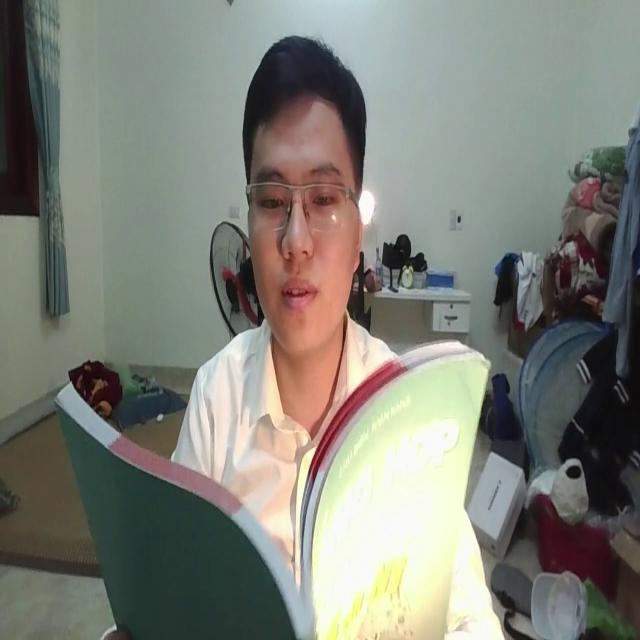book: (49, 334, 483, 640)
student: (175, 32, 398, 504)
